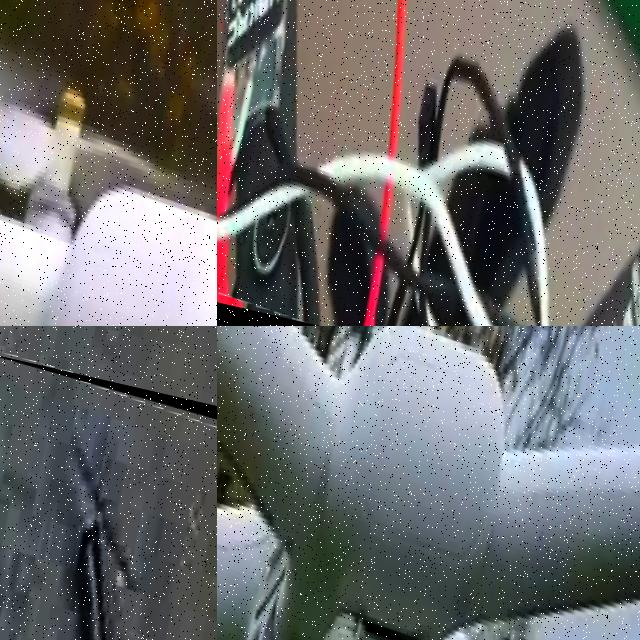drone: (217, 0, 640, 326), (217, 326, 640, 640), (0, 0, 217, 326), (0, 349, 217, 640)
